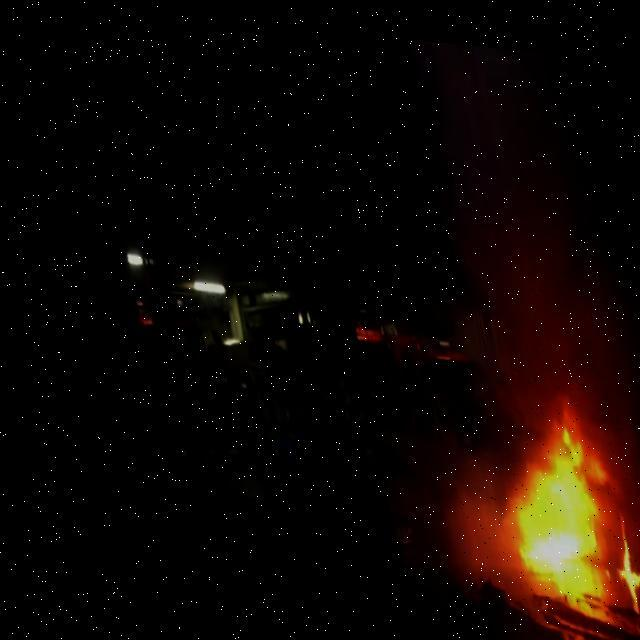Fire: (472, 418, 605, 561), (597, 503, 639, 577)
